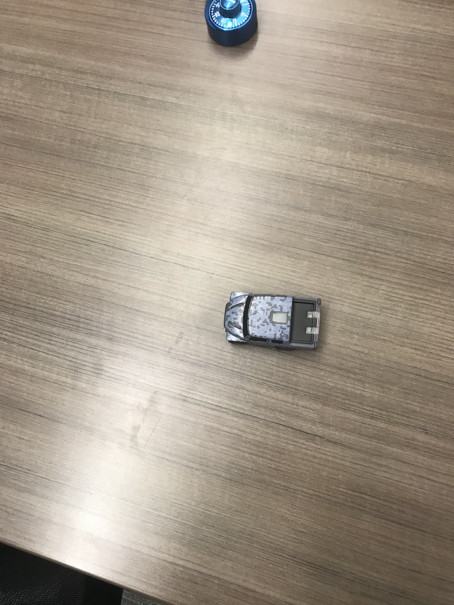MXT: (224, 290, 326, 353)
